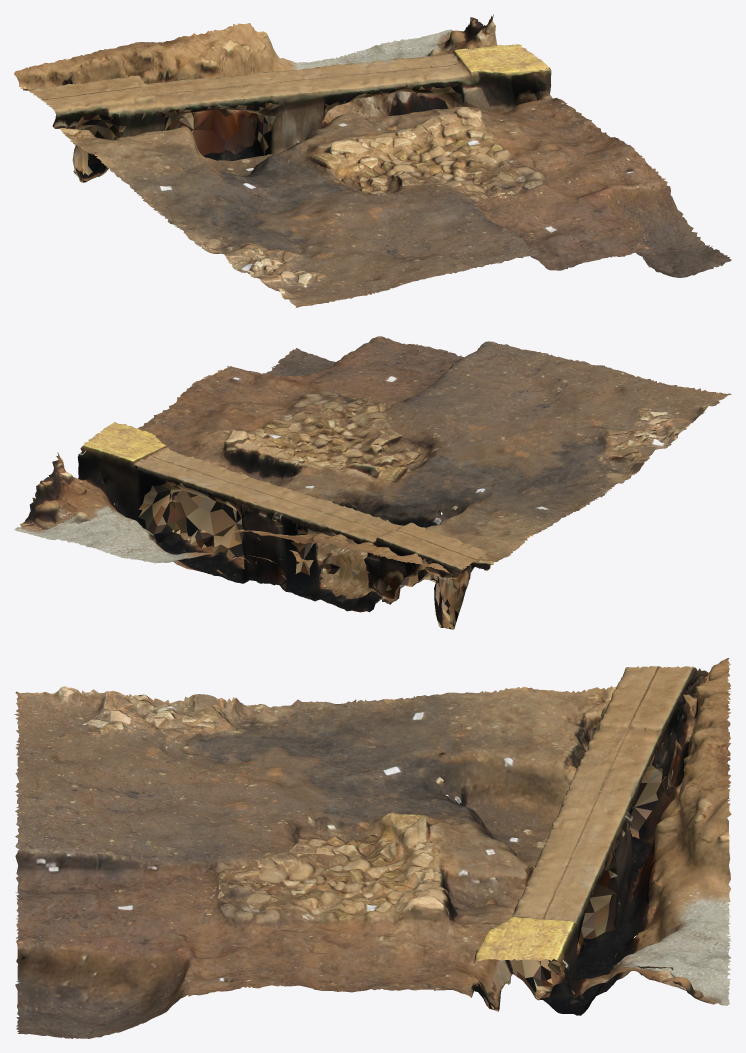
Rendered from Montebelluna_scavo.020_LOD1.gltf.
3 views of the same model, one above another, from view 1: azimuth 30°, elevation 25°; view 2: azimuth 150°, elevation 25°; view 3: azimuth 270°, elevation 25° (orthographic). The views are drawn at different scales.
Parts seen in each view (by area): view 1: Montebelluna_scavo.020_LOD1_SM_Montebelluna_scavo.020_LOD1; view 2: Montebelluna_scavo.020_LOD1_SM_Montebelluna_scavo.020_LOD1; view 3: Montebelluna_scavo.020_LOD1_SM_Montebelluna_scavo.020_LOD1.
Part boxes in pixels (x1,y1,x2,y2): Montebelluna_scavo.020_LOD1_SM_Montebelluna_scavo.020_LOD1: [14, 14, 731, 307]; Montebelluna_scavo.020_LOD1_SM_Montebelluna_scavo.020_LOD1: [14, 336, 731, 629]; Montebelluna_scavo.020_LOD1_SM_Montebelluna_scavo.020_LOD1: [14, 658, 731, 1038].
Bounding box in the file's own units: 3.88 × 0.9316 × 4.36.
1 material, 1 textured.
